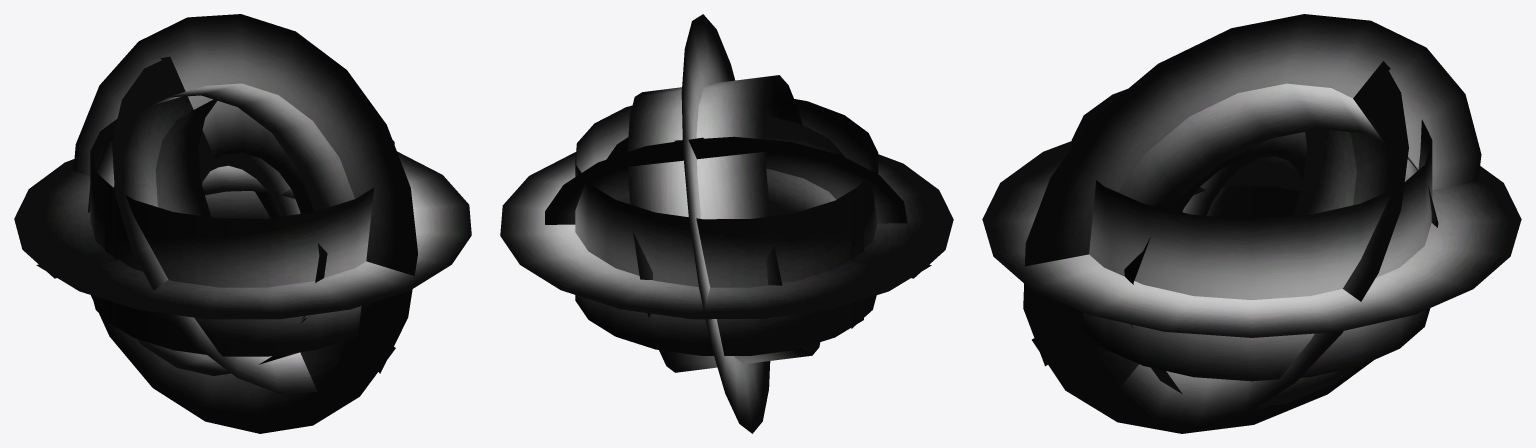
Rendered from vfx_kurp_0161.dae.
3 renders of one model, left to right at view 1: azimuth 30°, elevation 25°; view 2: azimuth 150°, elevation 25°; view 3: azimuth 270°, elevation 25°, orthographic. The views are drawn at different scales.
Visible parts, largest first — view 1: vfx_kurp_0161; view 2: vfx_kurp_0161; view 3: vfx_kurp_0161.
Part boxes in pixels (x1=…): vfx_kurp_0161: x1=14, y1=14, x2=471, y2=433; vfx_kurp_0161: x1=500, y1=14, x2=953, y2=433; vfx_kurp_0161: x1=982, y1=14, x2=1521, y2=433.
Size of the model in its own units: 11.69 by 11.7 by 10.63.
Materials: 1 (1 with a texture image).
